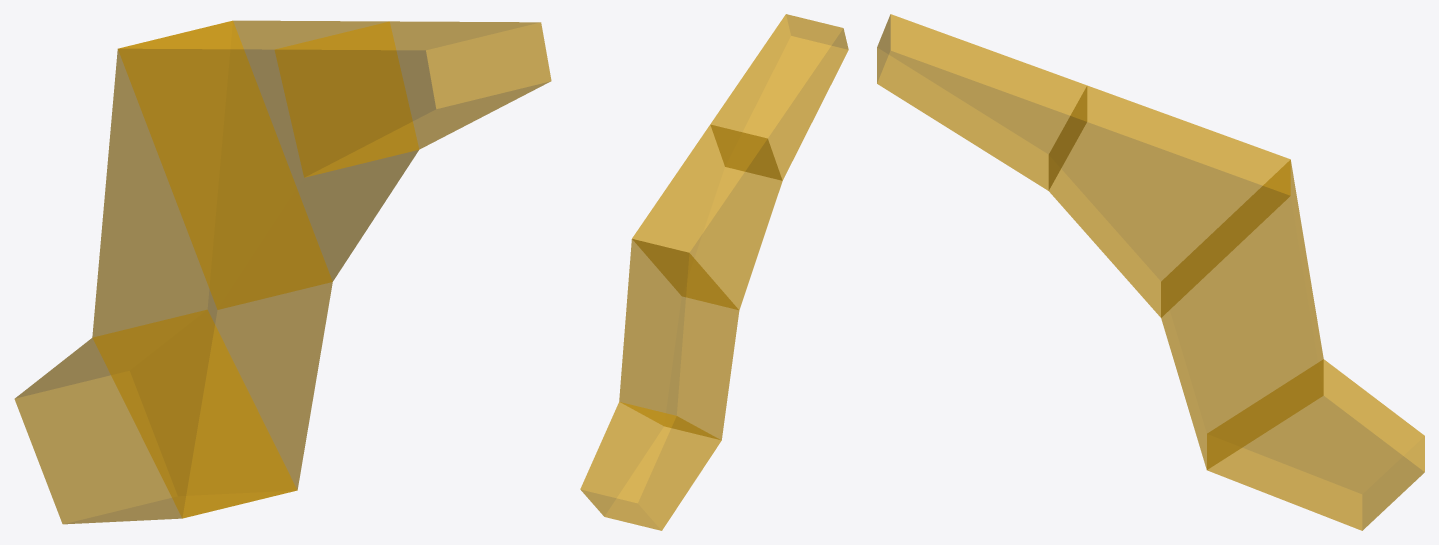
File: SM_Veh_Ship_M_Figurehead_05_Collision.fbx
3 renders of one model, left to right at view 1: azimuth 30°, elevation 25°; view 2: azimuth 150°, elevation 25°; view 3: azimuth 270°, elevation 25°, orthographic. The views are drawn at different scales.
Visible parts, largest first — view 1: SM_Veh_Ship_M_Figurehead_05_Collision; view 2: SM_Veh_Ship_M_Figurehead_05_Collision; view 3: SM_Veh_Ship_M_Figurehead_05_Collision.
Boxes of the visible parts, x1=… form: SM_Veh_Ship_M_Figurehead_05_Collision: x1=14, y1=20, x2=551, y2=524; SM_Veh_Ship_M_Figurehead_05_Collision: x1=580, y1=14, x2=848, y2=530; SM_Veh_Ship_M_Figurehead_05_Collision: x1=877, y1=14, x2=1424, y2=530.
Bounding box in the file's own units: 96.49 × 592 × 612.
